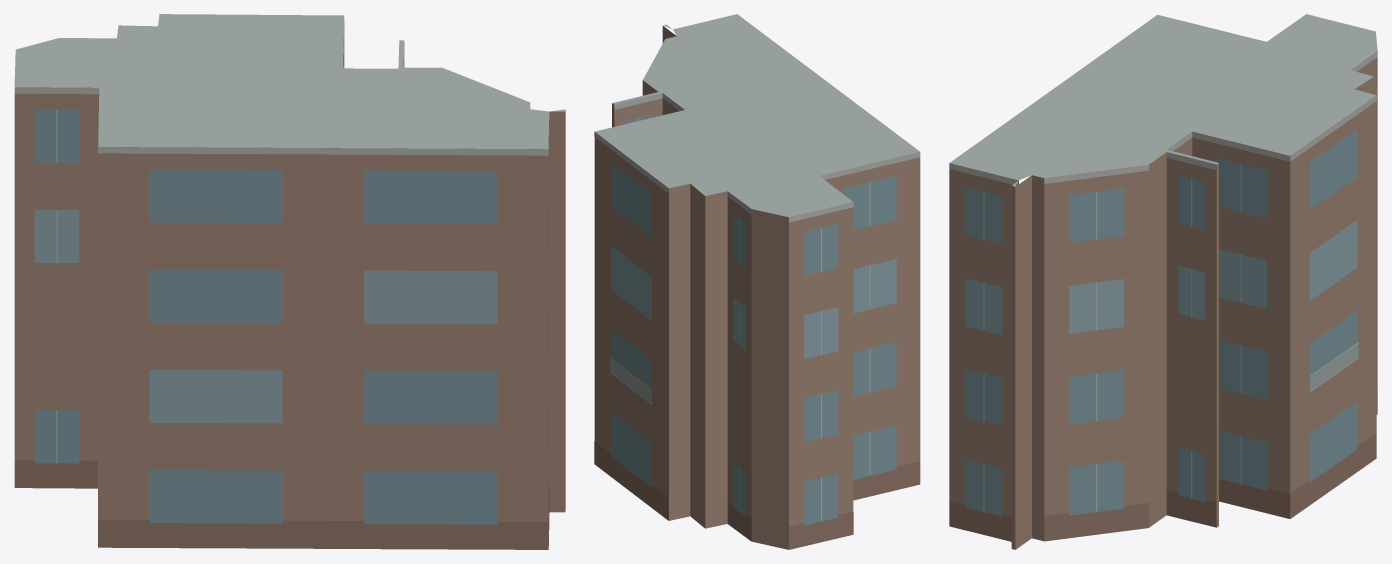
File: survey-upis-32580013.glb
The picture shows the model from 3 angles, left to right: view 1: azimuth 30°, elevation 25°; view 2: azimuth 150°, elevation 25°; view 3: azimuth 270°, elevation 25°; orthographic projection. The views are drawn at different scales.
Parts seen in each view (by area): view 1: survey-upis-32580013.tmp; view 2: survey-upis-32580013.tmp; view 3: survey-upis-32580013.tmp.
Boxes of the visible parts, left/top/right/bottom form: survey-upis-32580013.tmp: left=14, top=14, right=565, bottom=549; survey-upis-32580013.tmp: left=594, top=14, right=920, bottom=549; survey-upis-32580013.tmp: left=949, top=14, right=1377, bottom=549.
Bounding box in the file's own units: 15.51 × 15.2 × 16.26.
